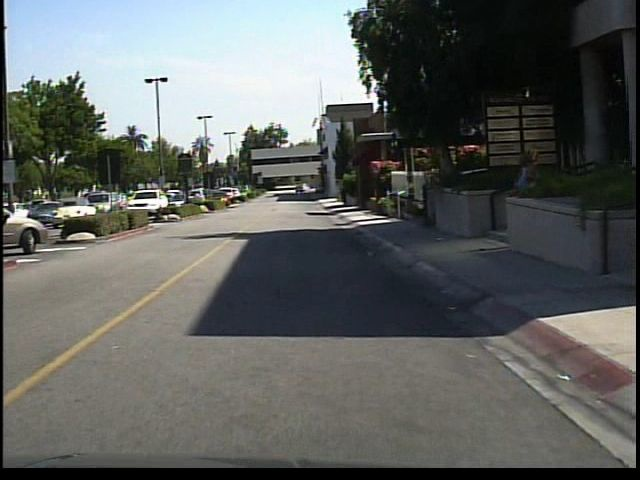person: (511, 138, 548, 244)
